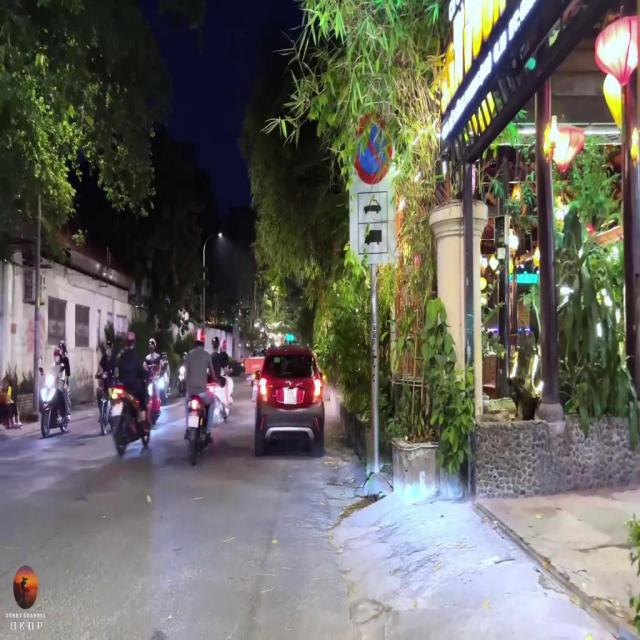cam_do_xe: (352, 112, 393, 184)
khac: (357, 192, 387, 224), (358, 223, 388, 254)
